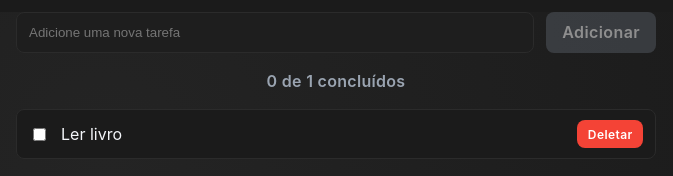
CT03 – Alternar status da tarefa › CT04: deve deletar uma tarefa existente
Click the button with test id "delete-todo-1" at x=610, y=134, box [578, 120, 643, 148]
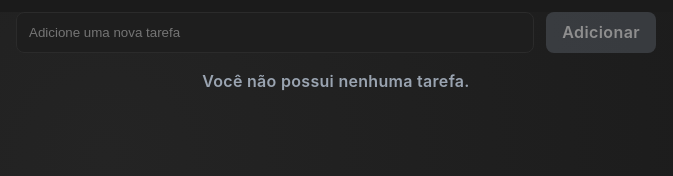
Expected: the text "Ler livro" is gone
Expected: the text "Você não possui nenhuma tarefa." is shown, [202, 71, 470, 91]
